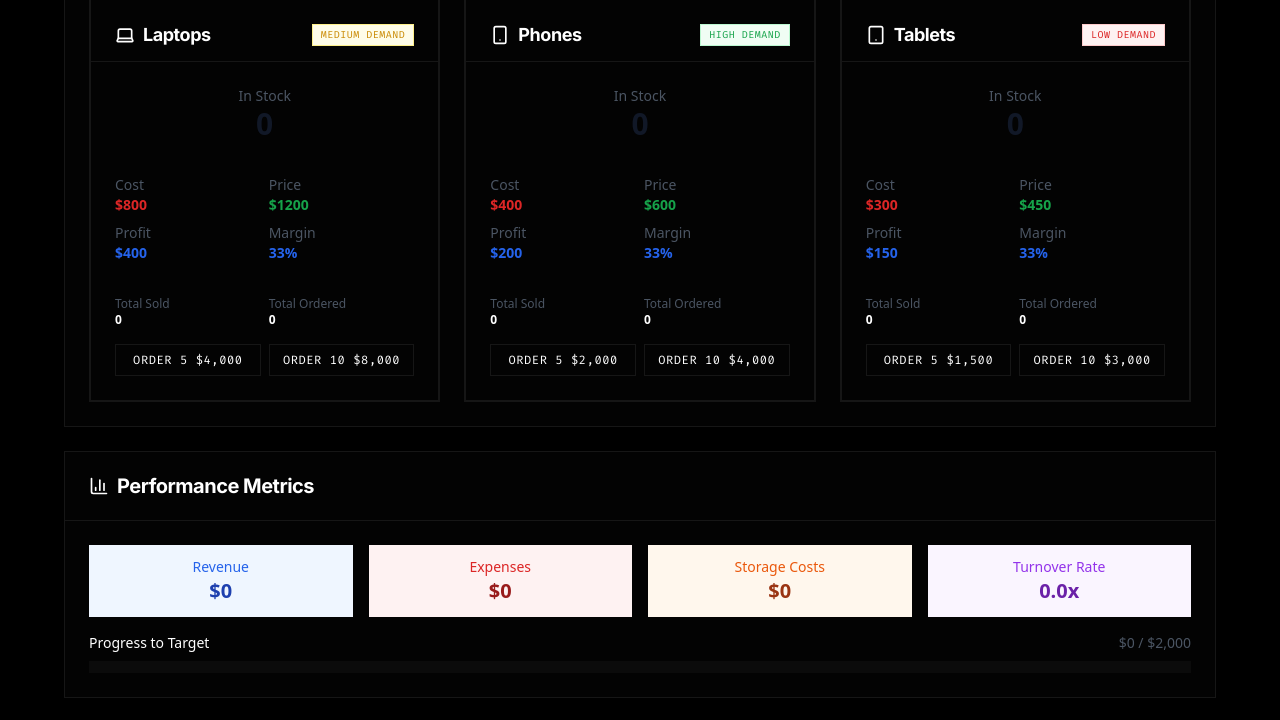
Scenario: InventoryManager › allows ordering stock for products
The image size is (1280, 720).
(page scrolled)
Step 1. Click the button "Order 5 $4,000" → (188,360), box [115,344,261,376]
(page scrolled)
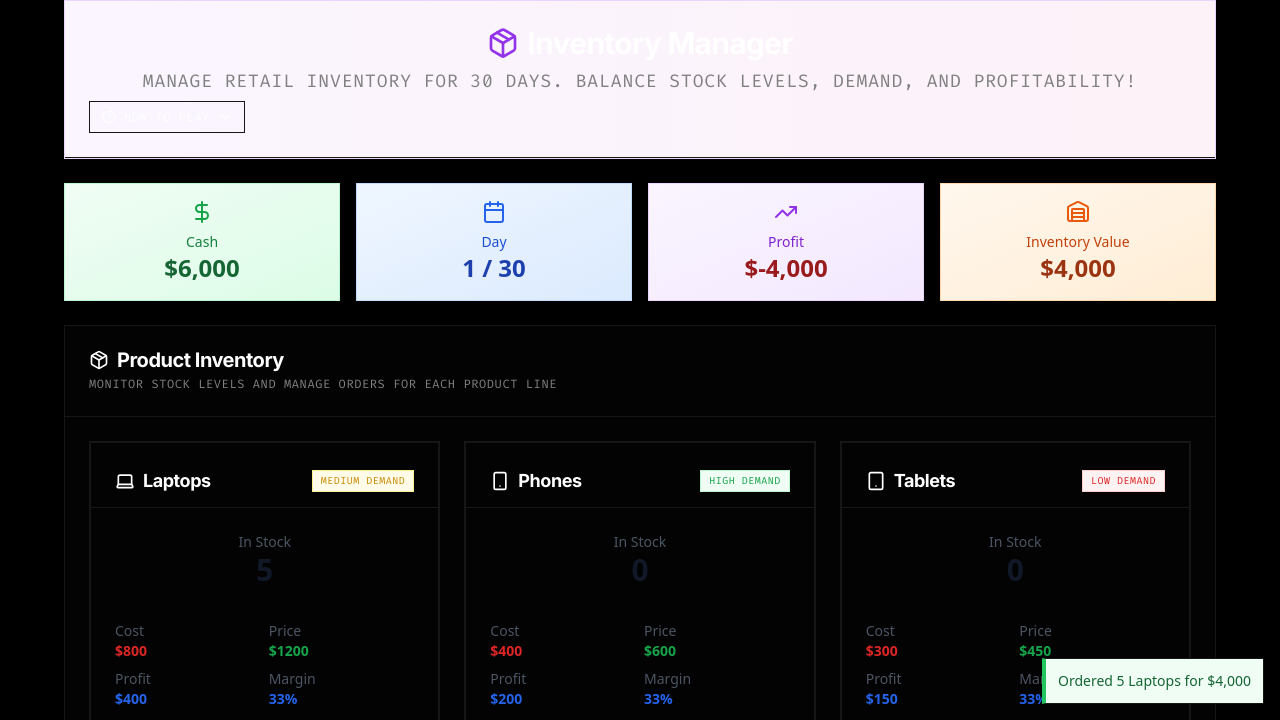
Expected: the text "$6,000" is shown, [164,251,240,284]
